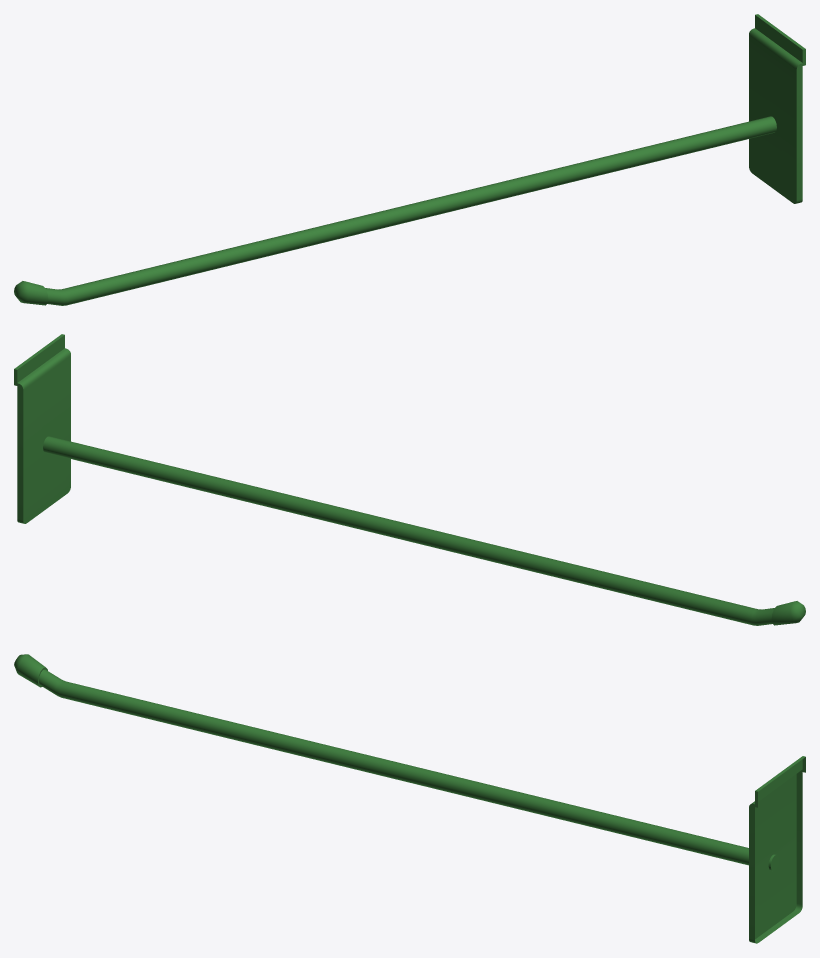
Rendered from SM_Shelves_Metal_Hanger_02.fbx.
3 renders of one model, top to bottom at view 1: azimuth 30°, elevation 25°; view 2: azimuth 150°, elevation 25°; view 3: azimuth 330°, elevation 25°, orthographic.
Parts seen in each view (by area): view 1: SM_Shelves_Metal_Hanger_02; view 2: SM_Shelves_Metal_Hanger_02; view 3: SM_Shelves_Metal_Hanger_02.
Part boxes in pixels (<box>): SM_Shelves_Metal_Hanger_02: <box>14,14,805,305</box>; SM_Shelves_Metal_Hanger_02: <box>14,334,805,625</box>; SM_Shelves_Metal_Hanger_02: <box>14,654,805,943</box>.
Size of the model in its own units: 41.74 by 8.05 by 4.52.
